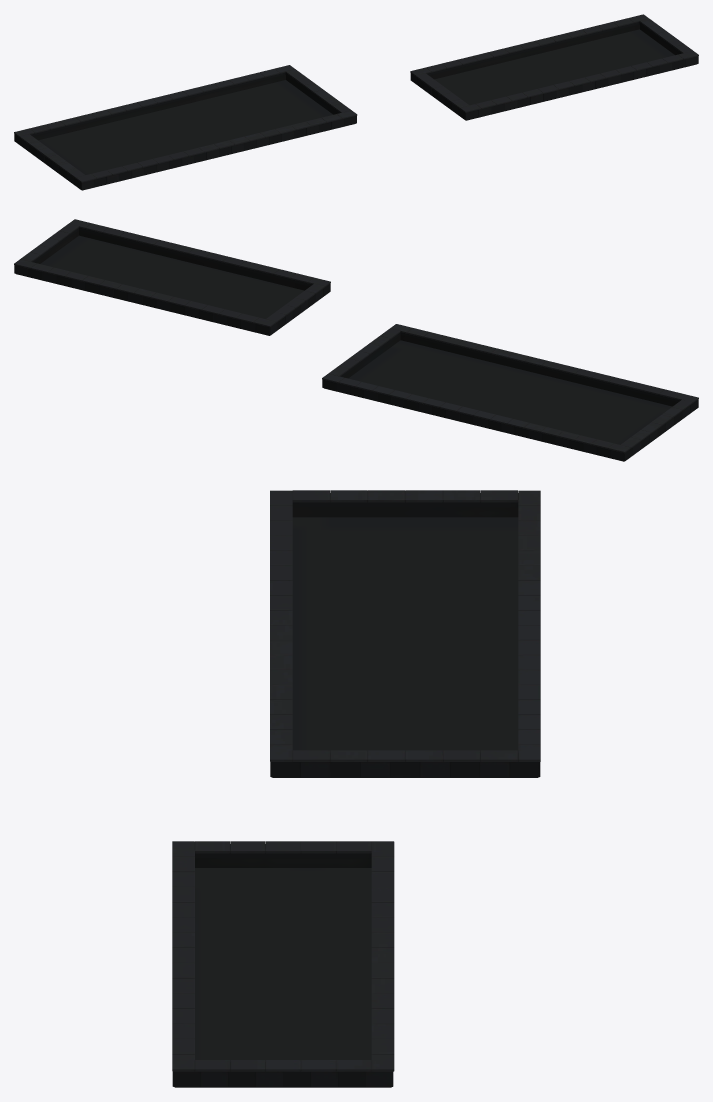
The model's file is atrium_ponds.glb.
3 views of the same model, one above another, from view 1: azimuth 30°, elevation 25°; view 2: azimuth 150°, elevation 25°; view 3: azimuth 270°, elevation 25° (orthographic). The views are drawn at different scales.
Parts seen in each view (by area): view 1: atrium_ponds; view 2: atrium_ponds; view 3: atrium_ponds.
Part boxes in pixels (bbox=[...]): atrium_ponds: bbox=[14, 14, 698, 190]; atrium_ponds: bbox=[14, 219, 698, 461]; atrium_ponds: bbox=[172, 490, 540, 1087].
Bounding box in the file's own units: 28.04 × 0.4348 × 7.54.
Materials: 1 (1 with a texture image).
